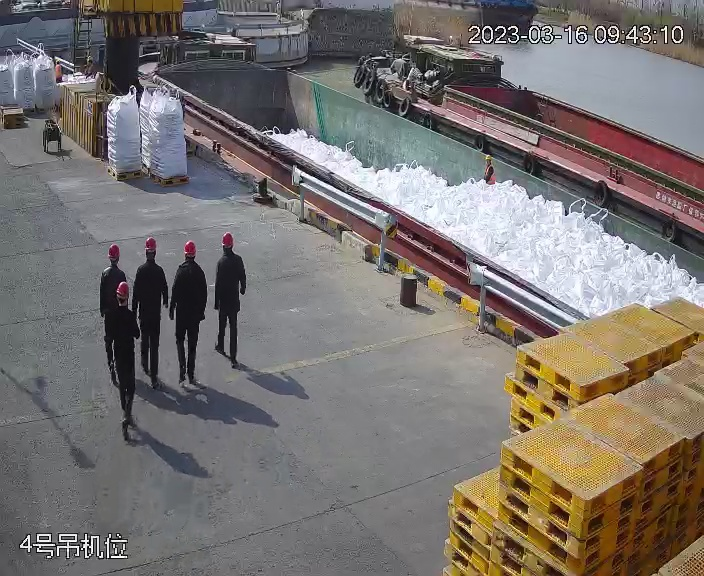head: (135, 238, 166, 281), (174, 241, 206, 279), (216, 232, 244, 272), (100, 244, 128, 284), (105, 282, 136, 318), (484, 154, 495, 172)
helmet: (115, 282, 130, 300), (221, 232, 236, 247), (183, 241, 198, 255), (144, 236, 158, 250), (108, 244, 121, 259), (485, 154, 493, 162)
people: (102, 282, 145, 439), (167, 236, 210, 386), (131, 236, 168, 378), (211, 231, 247, 374), (483, 153, 498, 185)
